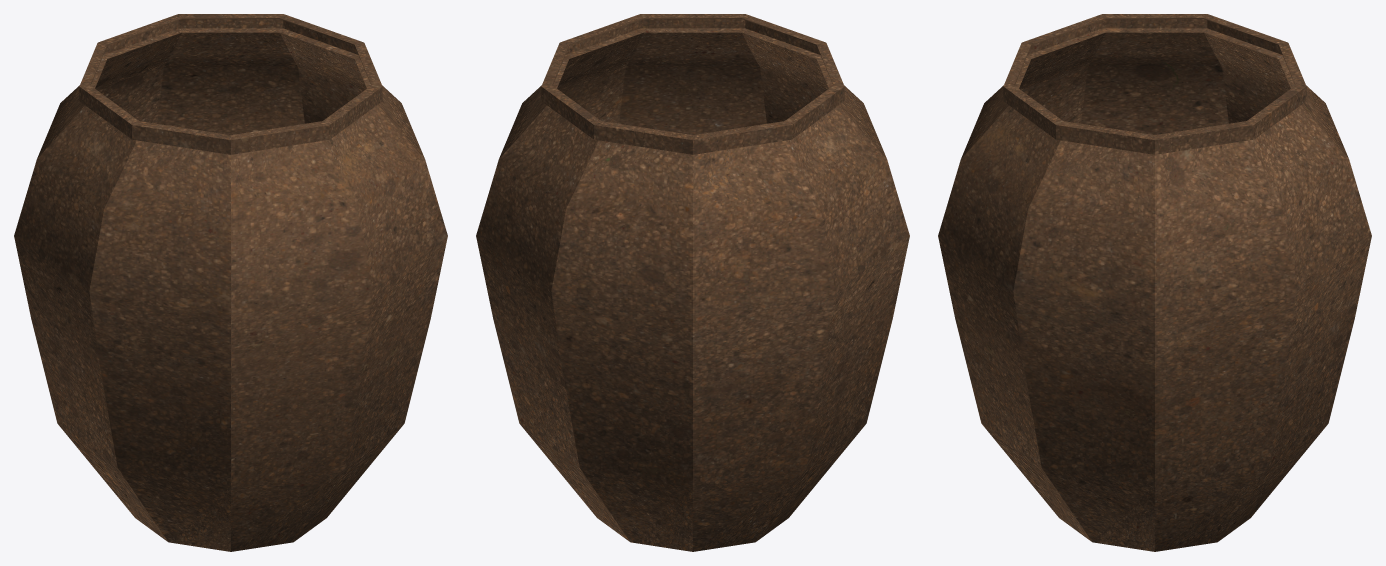
Rendered from SM_Jar.fbx.
The picture shows the model from 3 angles, left to right: view 1: azimuth 30°, elevation 25°; view 2: azimuth 150°, elevation 25°; view 3: azimuth 270°, elevation 25°; orthographic projection.
Parts seen in each view (by area): view 1: Cylinder035; view 2: Cylinder035; view 3: Cylinder035.
Part boxes in pixels (left/top/right/bottom): Cylinder035: left=14, top=14, right=447, bottom=551; Cylinder035: left=476, top=14, right=909, bottom=551; Cylinder035: left=938, top=14, right=1371, bottom=551.
Size of the model in its own units: 78.94 by 88.93 by 80.16.
Materials: 1 (1 with a texture image).
